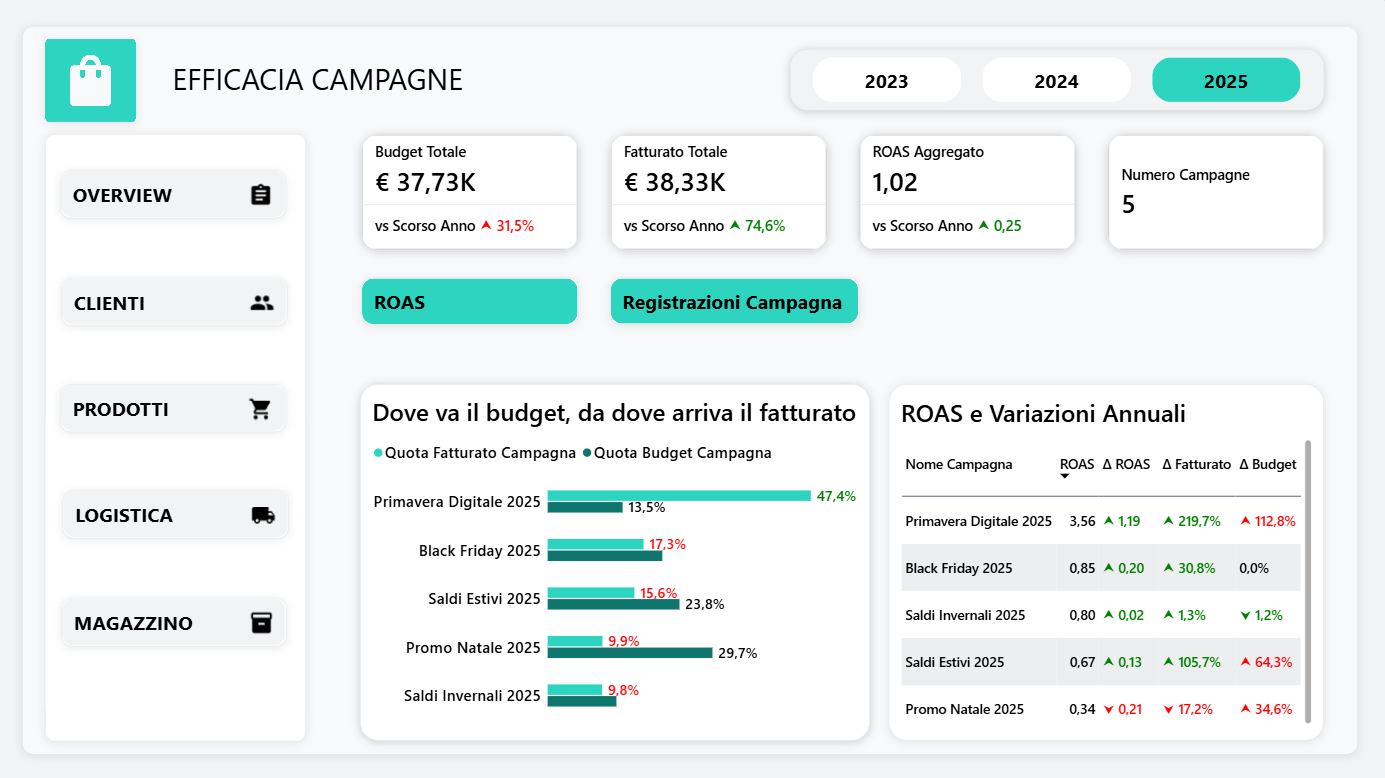

The page's visual inventory and layout, read from the dashboard file:
{"tool":"powerbi","page":{"name":"Campagne","canvas":[1920,1080],"ordinal":3},"visuals":[{"type":"shape","box":[38.2,38.2,1841.8,1003.6],"z":0},{"type":"shape","box":[69.1,185.5,360,838.2],"z":1000},{"type":"actionButton","box":[89.1,236.4,312,66],"z":2000},{"type":"actionButton","box":[91.5,383.6,312,66],"z":3000},{"type":"actionButton","box":[90.3,530.9,312,66],"z":4000},{"type":"actionButton","box":[92.7,678.2,312,66],"z":5000},{"type":"actionButton","box":[91.5,825.5,310.9,67.3],"z":6000},{"type":"image","box":[69.1,54.5,125.5,114.5],"z":7000},{"type":"textbox","title":"EFFICACIA CAMPAGNE","box":[244,83.2,821.6,57.9],"z":8000},{"type":"advancedSlicerVisual","fields":{"Values":["Data.Anno"]},"box":[1096.7,68.8,736.5,85.1],"z":9000},{"type":"cardVisual","fields":{"Data":["gold dim_campagne.Budget Totale"]},"box":[504.9,185.8,300,161.1],"z":10000},{"type":"cardVisual","fields":{"Data":["gold dim_campagne.ROAS Aggregato"]},"box":[1191.1,186.1,300,161.1],"z":11000},{"type":"cardVisual","fields":{"Data":["gold dim_campagne.Fatturato Campagne Totale"]},"box":[848,185.9,300,161.1],"z":12000},{"type":"cardVisual","fields":{"Data":["gold dim_campagne.Numero Campagne"]},"box":[1534.2,186.2,300,161.1],"z":13000},{"type":"actionButton","box":[504.9,383.6,299.8,65.2],"z":16000},{"type":"actionButton","box":[847.7,383.7,343.6,64.5],"z":17000},{"type":"barChart","title":"Ritmo di Registrazione per Campagna","fields":{"Category":["gold dim_campagne.nome_campagna"],"Y":["gold dim_campagne.Indice registrazione campagna"]},"box":[504.7,530.1,643.6,492.9],"z":18000},{"type":"barChart","title":"Efficienza Registrazioni Campagne","fields":{"Category":["gold dim_campagne.nome_campagna"],"Y":["gold dim_campagne.Efficienza Registrazione (per 1000eu-giorno)"]},"box":[1190.8,530.2,642.4,492.2],"z":19000}]}

Visuals, with their boxes in screenshot pixels (x1, y1, x2, y2), scaled from the page's 1920x1080 canvas onto the 1385x778 screenshot:
shape: BBox(28, 28, 1356, 750)
shape: BBox(50, 134, 310, 737)
actionButton: BBox(64, 170, 289, 218)
actionButton: BBox(66, 276, 291, 324)
actionButton: BBox(65, 382, 290, 430)
actionButton: BBox(67, 489, 292, 536)
actionButton: BBox(66, 595, 290, 643)
image: BBox(50, 39, 140, 122)
"EFFICACIA CAMPAGNE" textbox: BBox(176, 60, 769, 102)
advancedSlicerVisual - Data.Anno: BBox(791, 50, 1322, 111)
cardVisual - gold dim_campagne.Budget Totale: BBox(364, 134, 581, 250)
cardVisual - gold dim_campagne.ROAS Aggregato: BBox(859, 134, 1076, 250)
cardVisual - gold dim_campagne.Fatturato Campagne Totale: BBox(612, 134, 828, 250)
cardVisual - gold dim_campagne.Numero Campagne: BBox(1107, 134, 1323, 250)
actionButton: BBox(364, 276, 580, 323)
actionButton: BBox(611, 276, 859, 323)
"Ritmo di Registrazione per Campagna" barChart: BBox(364, 382, 828, 737)
"Efficienza Registrazioni Campagne" barChart: BBox(859, 382, 1322, 737)
